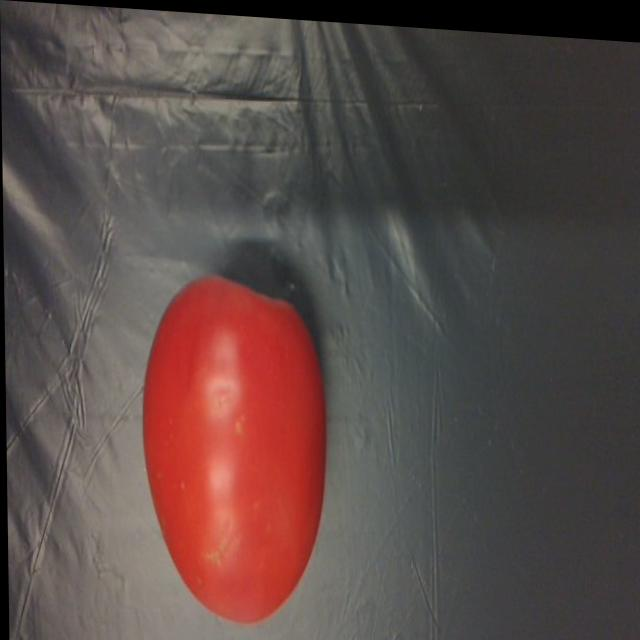kirmizi: (139, 257, 328, 628)
